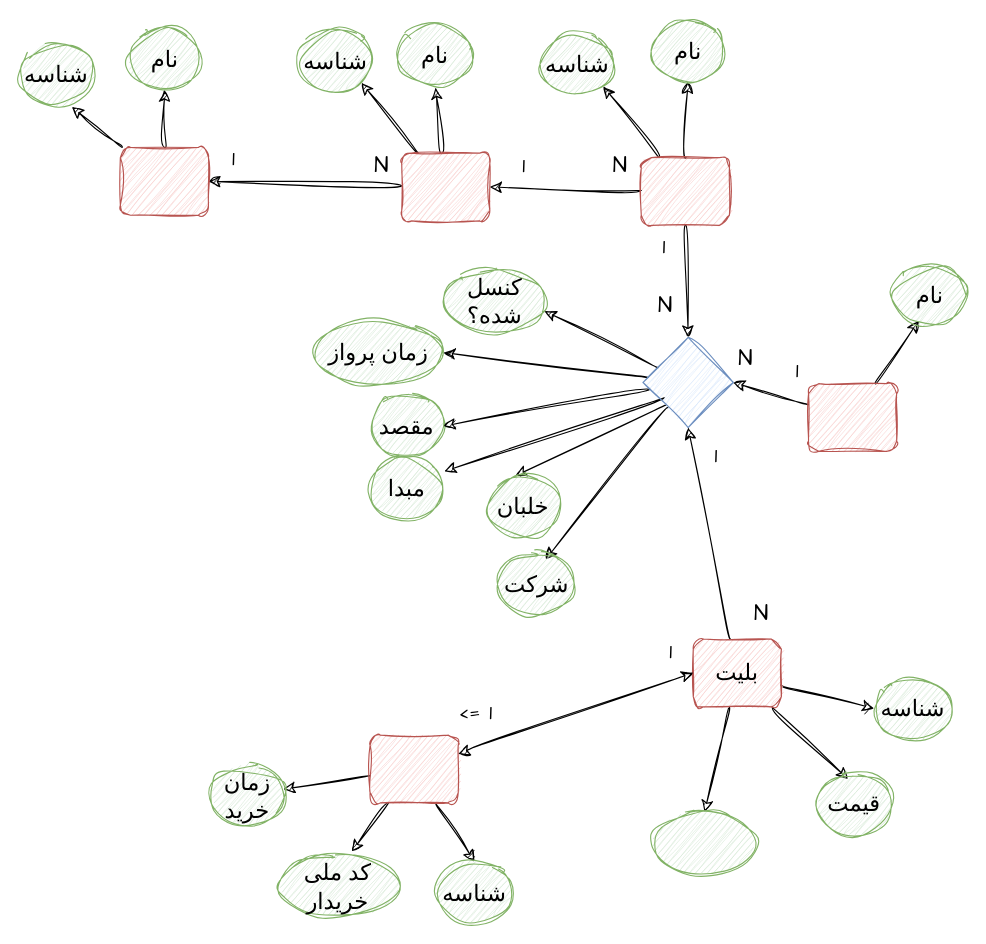
The diagram is 986 pixels wide and 944 high, and some of its shapes have lost their labels. The box of each missing label's shape, as (x1, y1, x2, y2) in pixels:
خرید: (369, 734, 458, 803)
شرکت هوایی: (807, 383, 897, 451)
شماره صندلی: (651, 811, 757, 874)
شهر: (401, 152, 490, 221)
فرودگاه: (640, 157, 729, 225)
پرواز: (642, 336, 733, 428)
کشور: (119, 146, 208, 215)
